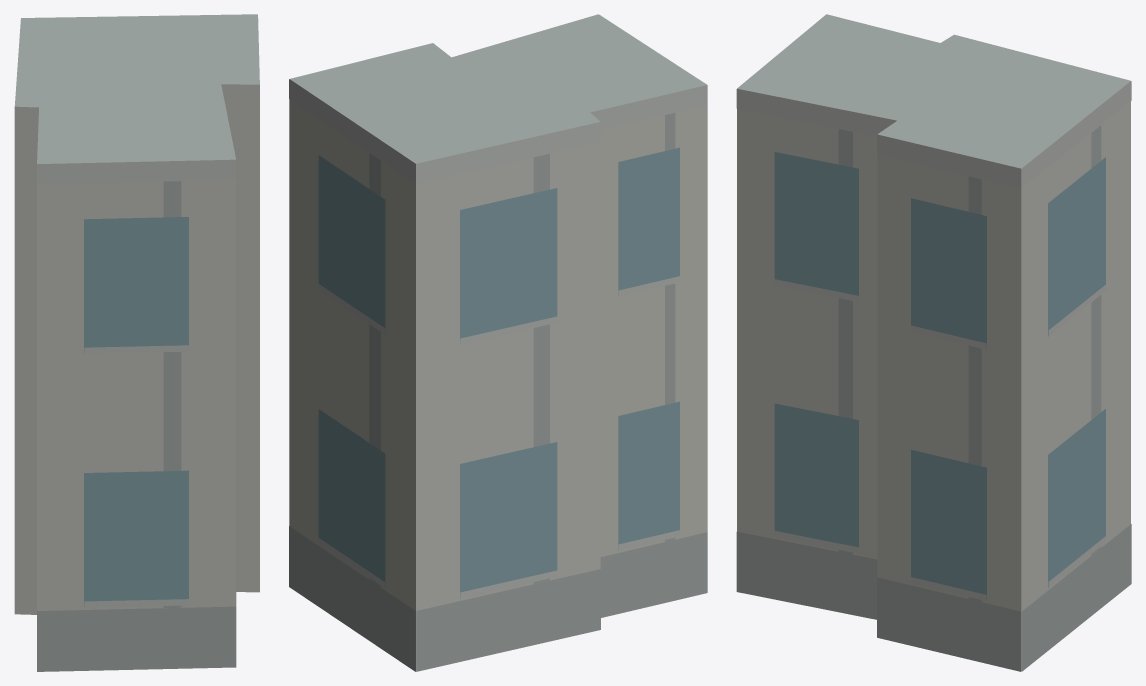
Rendered from survey-upis-32578504.glb.
3 views of the same model, side by side, from view 1: azimuth 30°, elevation 25°; view 2: azimuth 150°, elevation 25°; view 3: azimuth 270°, elevation 25° (orthographic).
Visible parts, largest first — view 1: survey-upis-32578504.tmp; view 2: survey-upis-32578504.tmp; view 3: survey-upis-32578504.tmp.
Boxes of the visible parts, x1,y1,x2,y2 form: survey-upis-32578504.tmp: [14, 14, 259, 671]; survey-upis-32578504.tmp: [289, 14, 707, 671]; survey-upis-32578504.tmp: [736, 14, 1131, 671].
Size of the model in its own units: 4.03 by 6.1 by 4.34.
